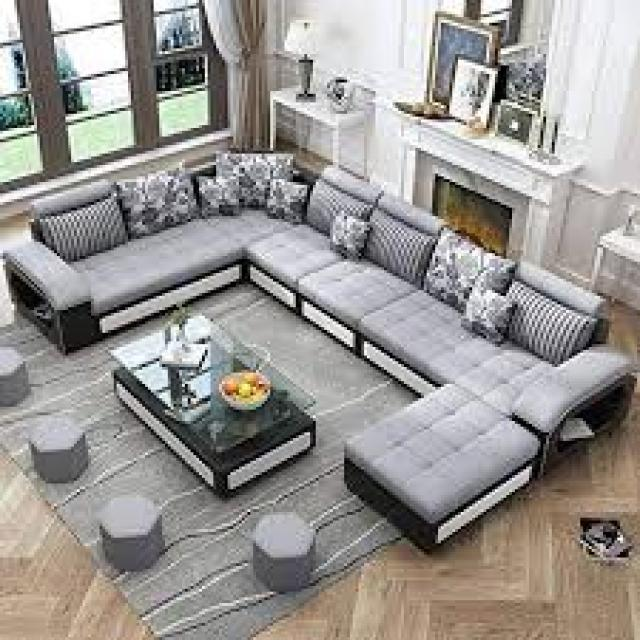sofa: (0, 148, 637, 552)
